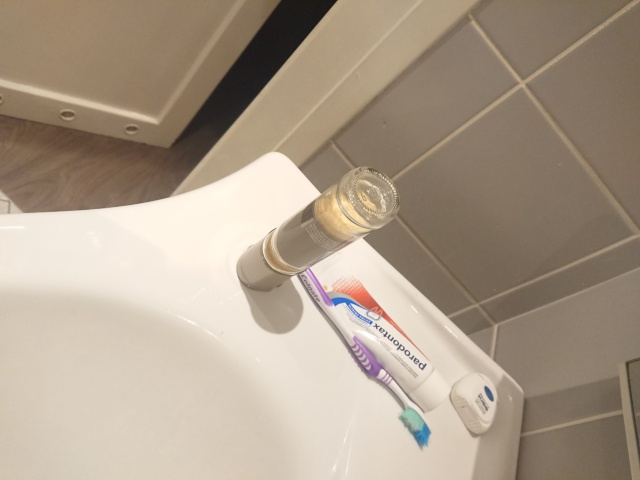Kotanyi Garlic Granules 70g: (233, 164, 402, 294)
